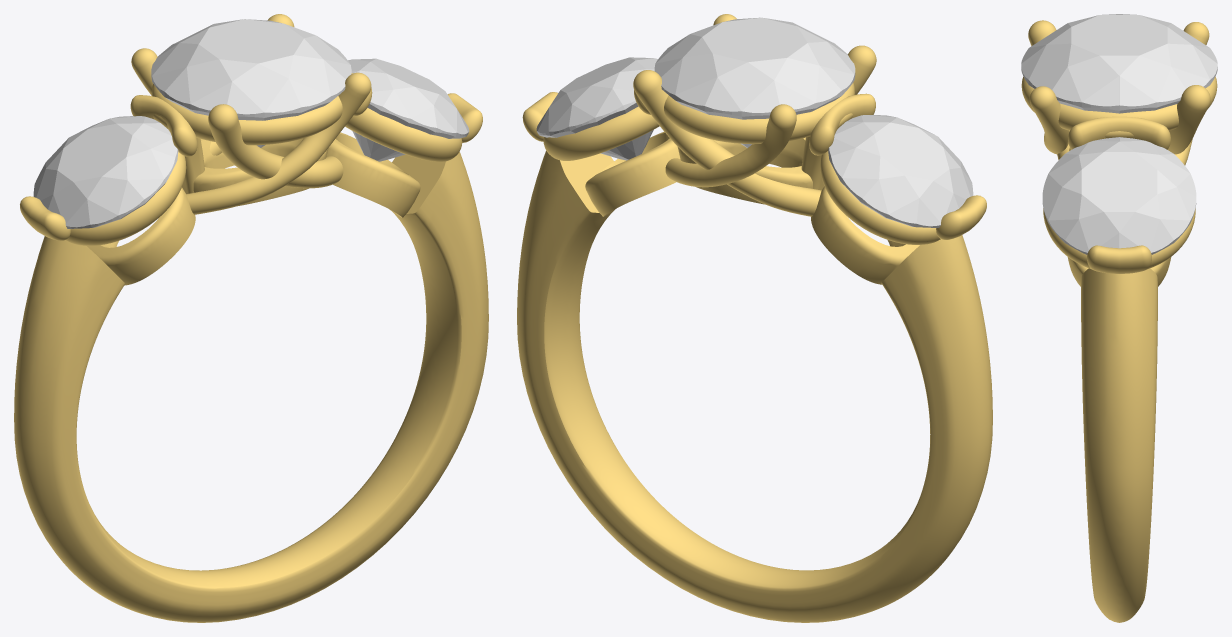
Rendered from PaulaNEWuprongs_blender.glb.
3 renders of one model, left to right at view 1: azimuth 30°, elevation 25°; view 2: azimuth 150°, elevation 25°; view 3: azimuth 270°, elevation 25°, orthographic. The views are drawn at different scales.
Visible parts, largest first — view 1: NEW v4 eng paula YG for 3d model, new Paula eng dia for 3d model.001, new Paula eng dia for 3d model, new Paula eng dia for 3d model.002; view 2: NEW v4 eng paula YG for 3d model, new Paula eng dia for 3d model.001, new Paula eng dia for 3d model, new Paula eng dia for 3d model.002; view 3: NEW v4 eng paula YG for 3d model, new Paula eng dia for 3d model.001, new Paula eng dia for 3d model.002.
Boxes of the visible parts, x1,y1,x2,y2 form: NEW v4 eng paula YG for 3d model: [14, 14, 488, 622]; new Paula eng dia for 3d model.001: [151, 19, 351, 147]; new Paula eng dia for 3d model: [33, 116, 178, 228]; new Paula eng dia for 3d model.002: [348, 58, 469, 161]; NEW v4 eng paula YG for 3d model: [517, 14, 992, 622]; new Paula eng dia for 3d model.001: [654, 17, 855, 147]; new Paula eng dia for 3d model: [828, 115, 973, 227]; new Paula eng dia for 3d model.002: [536, 57, 657, 160]; NEW v4 eng paula YG for 3d model: [1021, 20, 1217, 622]; new Paula eng dia for 3d model.001: [1021, 14, 1217, 113]; new Paula eng dia for 3d model.002: [1042, 137, 1196, 254].
Bounding box in the file's own units: 19.9 × 23.39 × 7.4.
